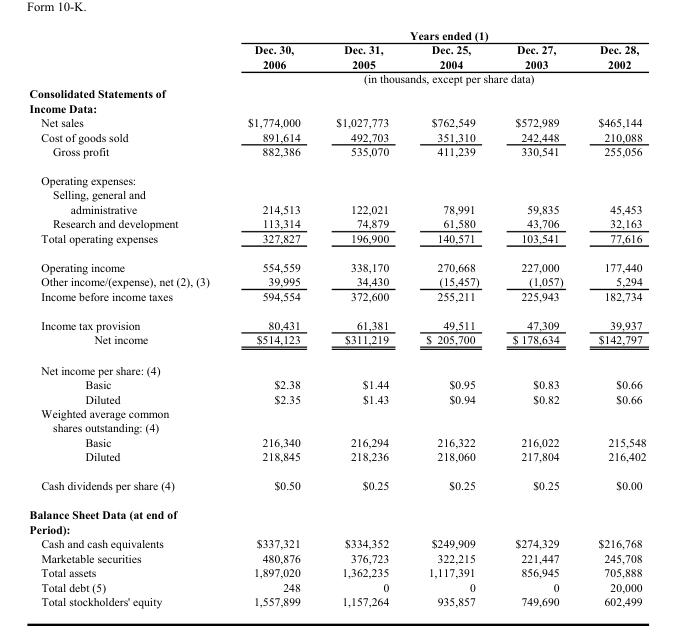table: (28, 28, 645, 607)
table column: (28, 28, 227, 607), (227, 28, 317, 607), (317, 28, 406, 607), (406, 28, 495, 607), (495, 28, 580, 607), (580, 28, 645, 607)
table column header: (28, 28, 645, 85)
table projected row header: (28, 165, 645, 187), (28, 354, 645, 376), (28, 499, 645, 521), (28, 85, 645, 100), (28, 405, 645, 420), (28, 521, 645, 536), (28, 100, 645, 114), (28, 187, 645, 201), (28, 420, 645, 434)
table row: (28, 42, 645, 71), (28, 470, 645, 499), (28, 331, 645, 354), (28, 143, 645, 165), (28, 165, 645, 187), (28, 230, 645, 252), (28, 288, 645, 310), (28, 354, 645, 376), (28, 499, 645, 521), (28, 252, 645, 273), (28, 310, 645, 331), (28, 449, 645, 470), (28, 85, 645, 100), (28, 114, 645, 129), (28, 201, 645, 216), (28, 273, 645, 288), (28, 376, 645, 391), (28, 405, 645, 420), (28, 434, 645, 449), (28, 521, 645, 536), (28, 550, 645, 565), (28, 28, 645, 42), (28, 71, 645, 85), (28, 100, 645, 114), (28, 129, 645, 143), (28, 187, 645, 201), (28, 216, 645, 230), (28, 391, 645, 405), (28, 420, 645, 434), (28, 536, 645, 550), (28, 565, 645, 579), (28, 579, 645, 593), (28, 593, 645, 607)
table spanning cell: (227, 28, 645, 42), (227, 42, 317, 85), (317, 71, 580, 85), (580, 42, 645, 85)
